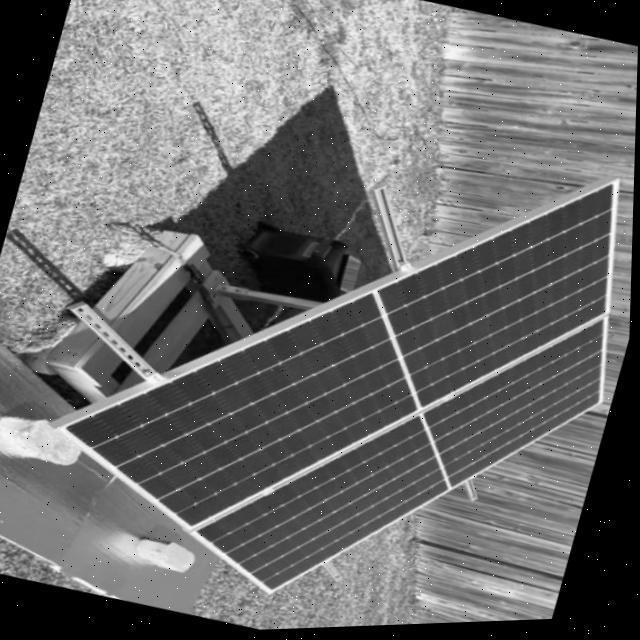Normal Solar Panel: (29, 72, 638, 638)
